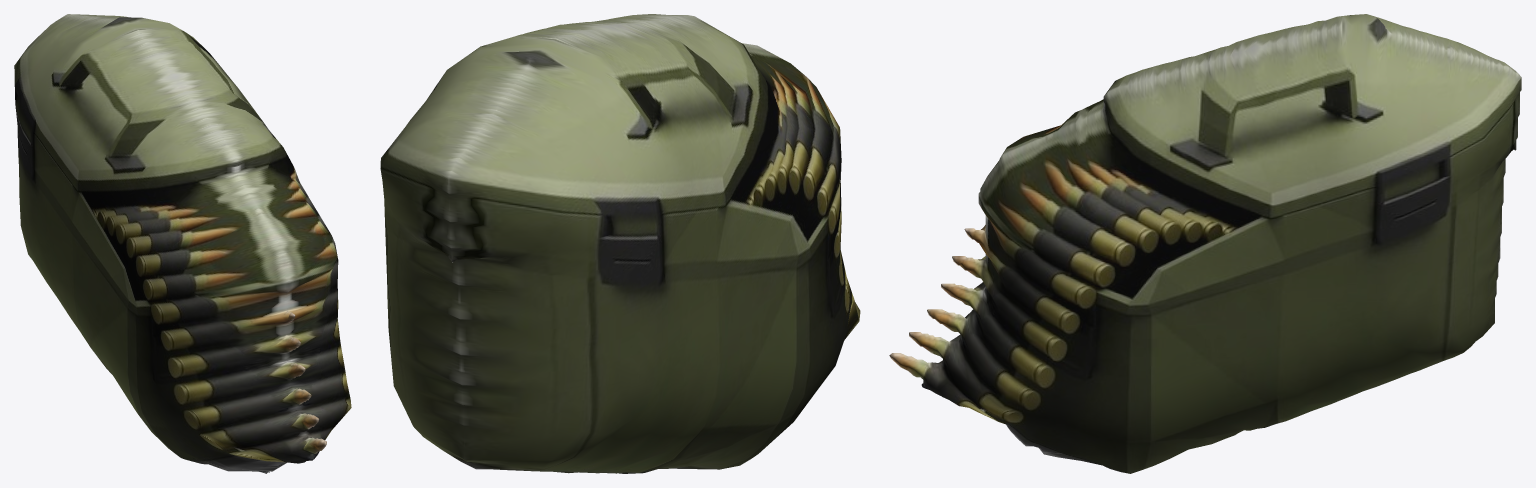
The model's file is mitrailleuse-piece1.glb.
3 renders of one model, left to right at view 1: azimuth 30°, elevation 25°; view 2: azimuth 150°, elevation 25°; view 3: azimuth 270°, elevation 25°, orthographic. The views are drawn at different scales.
Visible parts, largest first — view 1: mitrailleuse-piece1; view 2: mitrailleuse-piece1; view 3: mitrailleuse-piece1.
Part boxes in pixels (box(x1,y1,x2,y2)): mitrailleuse-piece1: box(14, 14, 351, 473); mitrailleuse-piece1: box(380, 14, 860, 473); mitrailleuse-piece1: box(889, 14, 1521, 473).
Bounding box in the file's own units: 0.1 × 0.195 × 0.2557.
Materials: 1 (1 with a texture image).
